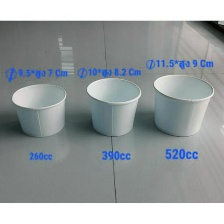paper_cup: (149, 70, 217, 139), (81, 74, 144, 139), (7, 80, 71, 139)
